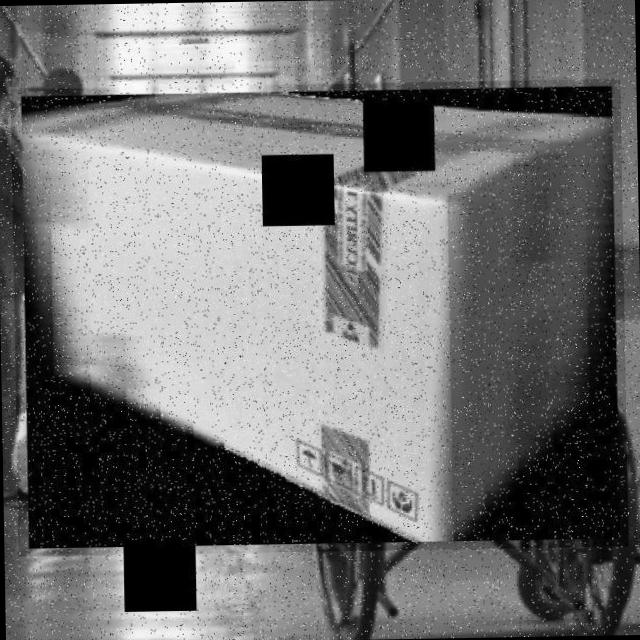box: (10, 79, 628, 558)
